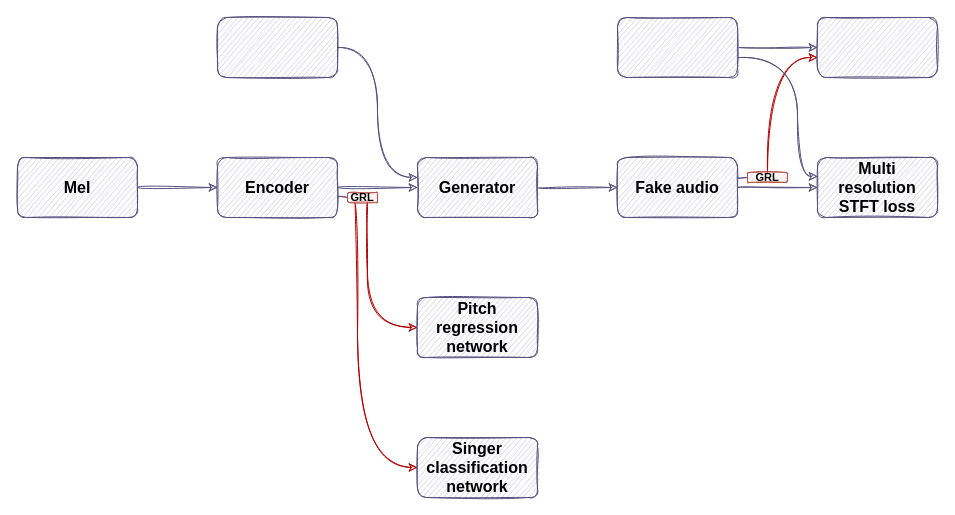
This 955x515 diagram has some shape labels left out. The centre of each missing label's shape, as x and y in pixels:
Discriminator: point 877,47
Gaussian noise: point 277,47
Real audio: point 677,47
